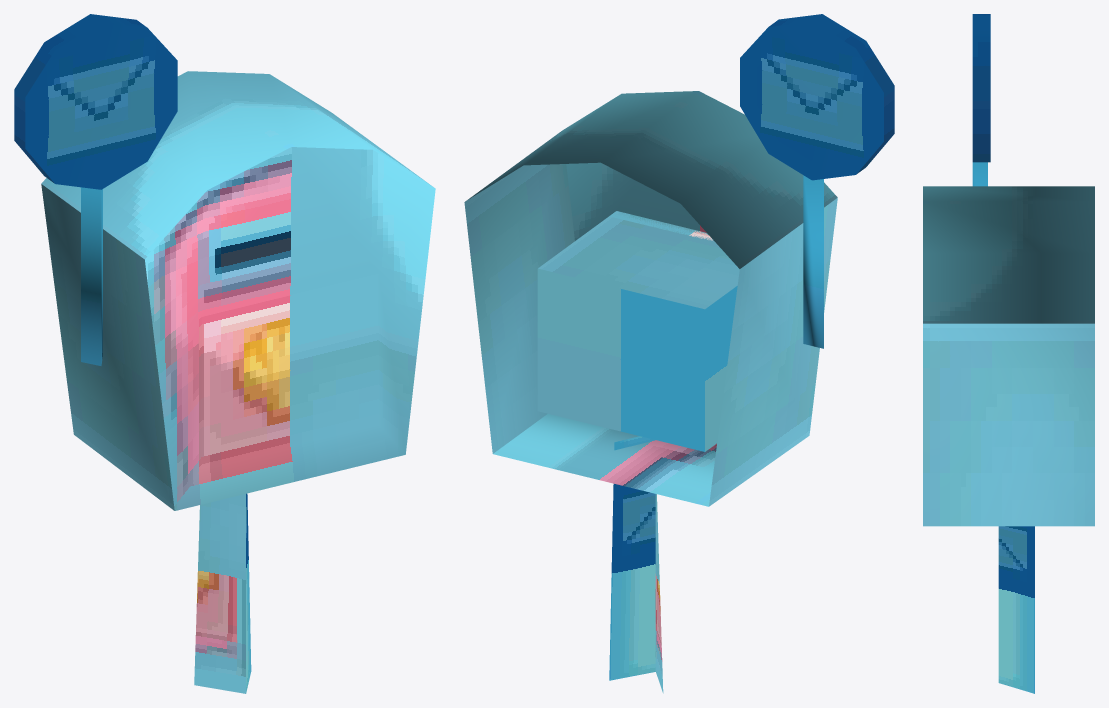
The model's file is int_post_E02.dae.
The picture shows the model from 3 angles, left to right: view 1: azimuth 30°, elevation 25°; view 2: azimuth 150°, elevation 25°; view 3: azimuth 270°, elevation 25°; orthographic projection. The views are drawn at different scales.
Visible parts, largest first — view 1: int_post_E02; view 2: int_post_E02; view 3: int_post_E02.
Part boxes in pixels (<box>): int_post_E02: <box>14,14,435,693</box>; int_post_E02: <box>464,14,894,693</box>; int_post_E02: <box>923,14,1094,693</box>.
Bounding box in the file's own units: 26.26 × 47.64 × 12.38.
Materials: 1 (1 with a texture image).
